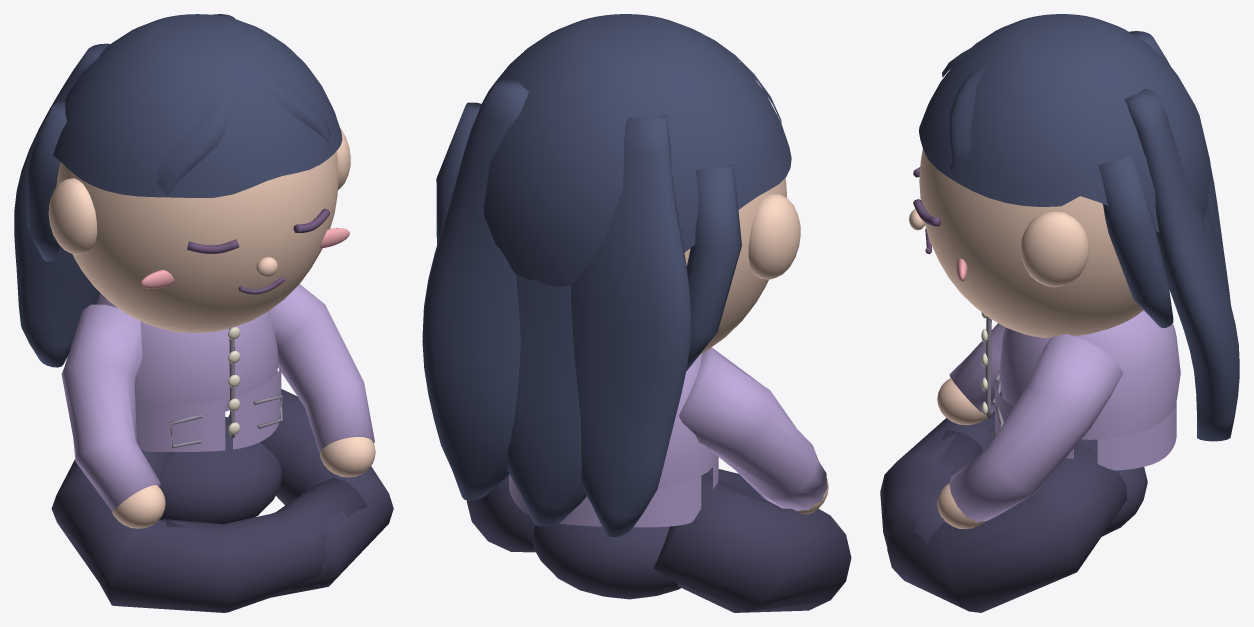
File: meditator_female_ao_ba_ba_p04.glb
3 views of the same model, side by side, from view 1: azimuth 30°, elevation 25°; view 2: azimuth 150°, elevation 25°; view 3: azimuth 270°, elevation 25° (orthographic). The views are drawn at different scales.
Parts seen in each view (by area): view 1: hair_blue_black_UpperBodyBreath_object, ao_ba_ba_pants_SeatRoot_object, ao_ba_ba_top_UpperBodyBreath_object, skin_rose_cream_UpperBodyBreath_object, eyes_mauve_UpperBodyBreath_object, ao_ba_ba_placket_UpperBodyBreath_object, skin_blush_UpperBodyBreath_object, ao_ba_ba_buttons_UpperBodyBreath_object; view 2: hair_blue_black_UpperBodyBreath_object, ao_ba_ba_pants_SeatRoot_object, ao_ba_ba_top_UpperBodyBreath_object, skin_rose_cream_UpperBodyBreath_object; view 3: hair_blue_black_UpperBodyBreath_object, ao_ba_ba_top_UpperBodyBreath_object, ao_ba_ba_pants_SeatRoot_object, skin_rose_cream_UpperBodyBreath_object, ao_ba_ba_placket_UpperBodyBreath_object, eyes_mauve_UpperBodyBreath_object.
Part boxes in pixels (box(x1,y1,x2,y2)): hair_blue_black_UpperBodyBreath_object: box(14, 14, 342, 367); ao_ba_ba_pants_SeatRoot_object: box(51, 389, 393, 612); ao_ba_ba_top_UpperBodyBreath_object: box(61, 284, 374, 512); skin_rose_cream_UpperBodyBreath_object: box(48, 128, 375, 528); eyes_mauve_UpperBodyBreath_object: box(187, 208, 330, 294); ao_ba_ba_placket_UpperBodyBreath_object: box(169, 326, 282, 448); skin_blush_UpperBodyBreath_object: box(141, 228, 349, 288); ao_ba_ba_buttons_UpperBodyBreath_object: box(228, 327, 240, 435); hair_blue_black_UpperBodyBreath_object: box(422, 14, 791, 536); ao_ba_ba_pants_SeatRoot_object: box(466, 467, 851, 612); ao_ba_ba_top_UpperBodyBreath_object: box(509, 347, 827, 527); skin_rose_cream_UpperBodyBreath_object: box(684, 178, 828, 514); hair_blue_black_UpperBodyBreath_object: box(919, 14, 1239, 441); ao_ba_ba_top_UpperBodyBreath_object: box(949, 310, 1180, 522); ao_ba_ba_pants_SeatRoot_object: box(880, 410, 1147, 612); skin_rose_cream_UpperBodyBreath_object: box(909, 149, 1143, 529); ao_ba_ba_placket_UpperBodyBreath_object: box(985, 316, 1003, 438); eyes_mauve_UpperBodyBreath_object: box(913, 167, 941, 254).
Size of the model in its own units: 0.672 by 1.15 by 0.7083.
